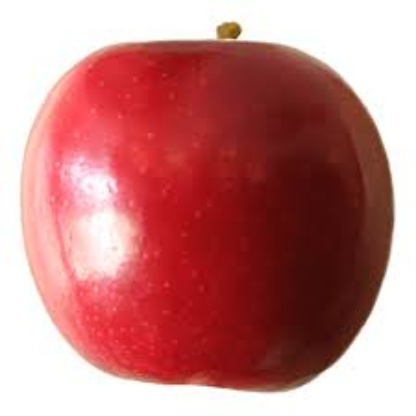tao: (14, 37, 406, 399)
